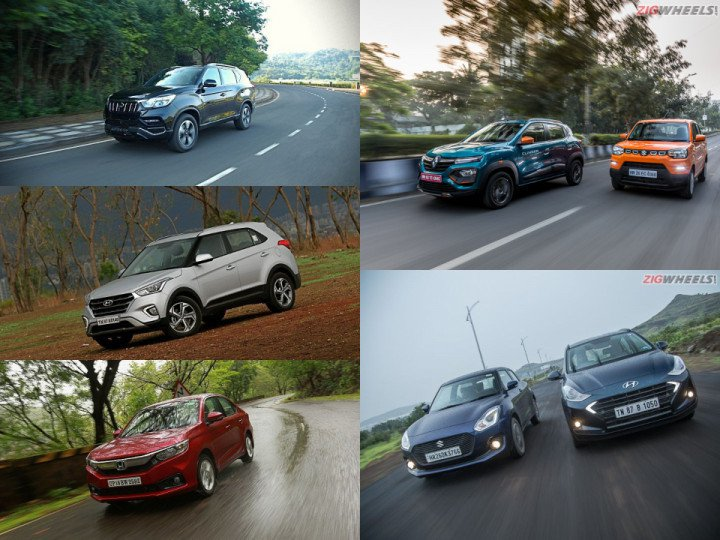car: (81, 221, 304, 342), (81, 385, 259, 506), (558, 323, 701, 449), (416, 115, 588, 207), (398, 365, 540, 476), (101, 57, 258, 149), (606, 115, 712, 199)
